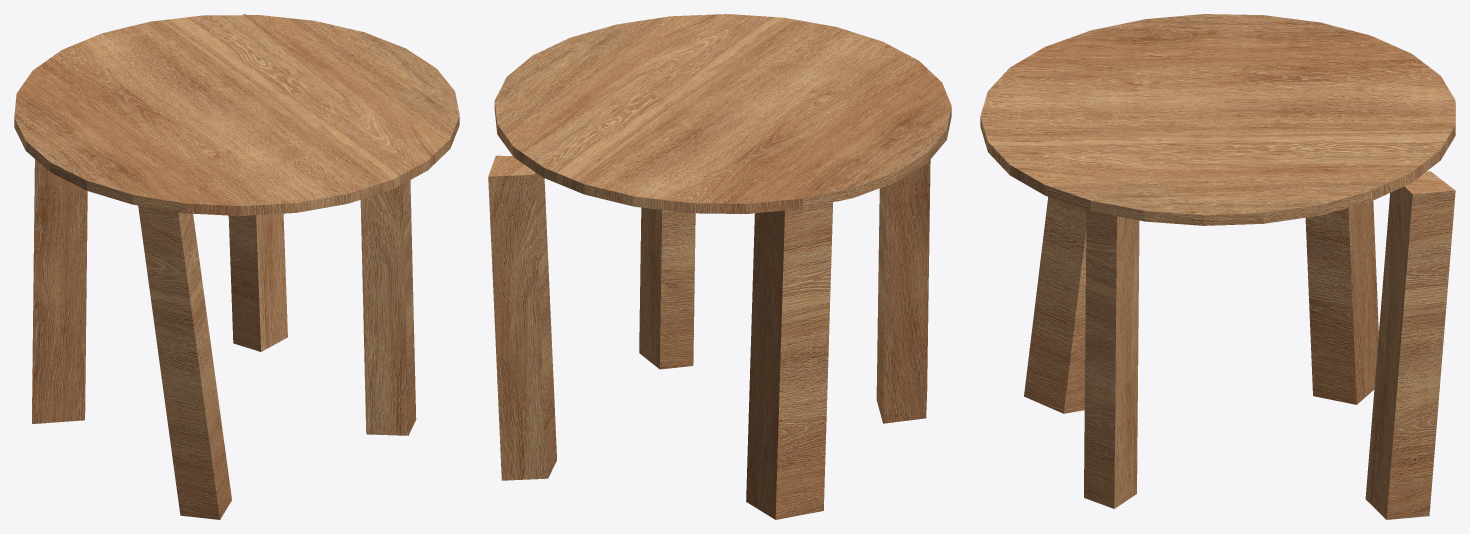
Rendered from 28654_ours.glb.
The picture shows the model from 3 angles, left to right: view 1: azimuth 30°, elevation 25°; view 2: azimuth 150°, elevation 25°; view 3: azimuth 270°, elevation 25°; orthographic projection. The views are drawn at different scales.
Visible parts, largest first — view 1: ParentEmpty; view 2: ParentEmpty; view 3: ParentEmpty.
Boxes of the visible parts, box(x1,y1,x2,y2) form: ParentEmpty: box(14, 14, 459, 519); ParentEmpty: box(488, 14, 951, 519); ParentEmpty: box(980, 14, 1455, 519).
Size of the model in its own units: 1 by 0.8048 by 0.9984.
1 material, 1 textured.
